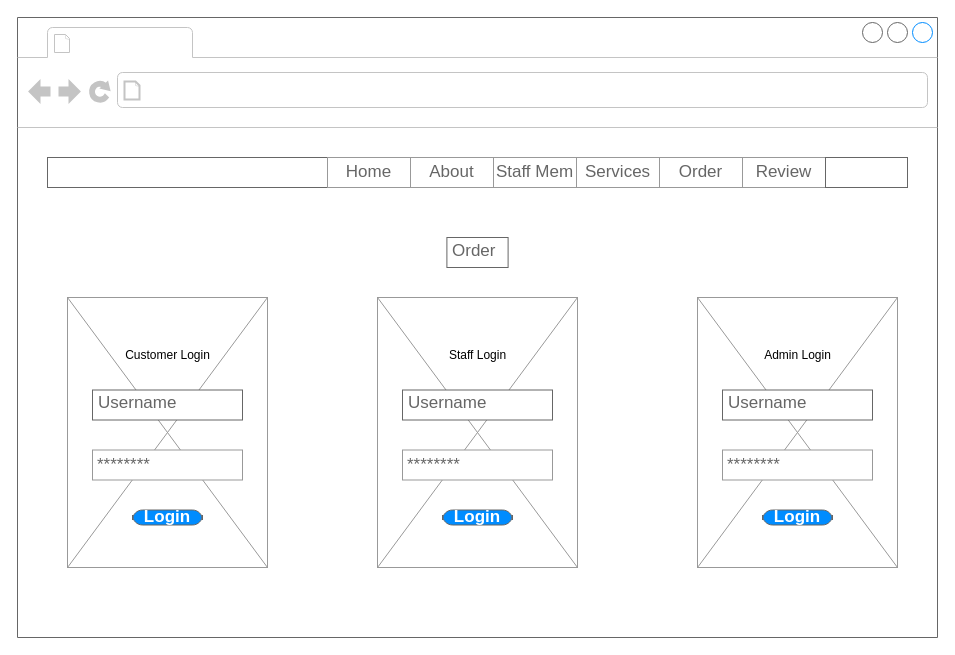
This 955x655 diagram has some shape labels left out. The shapes that lost their labels are listed below. From the top down, each one's box as (x1, y1, x2, y2) in pixels, then its label:
(76, 28, 188, 56): Page 1
(146, 76, 398, 104): https://www.Main.php#services
(46, 156, 328, 188): Signature Cuisine
(824, 156, 908, 188): Contact
